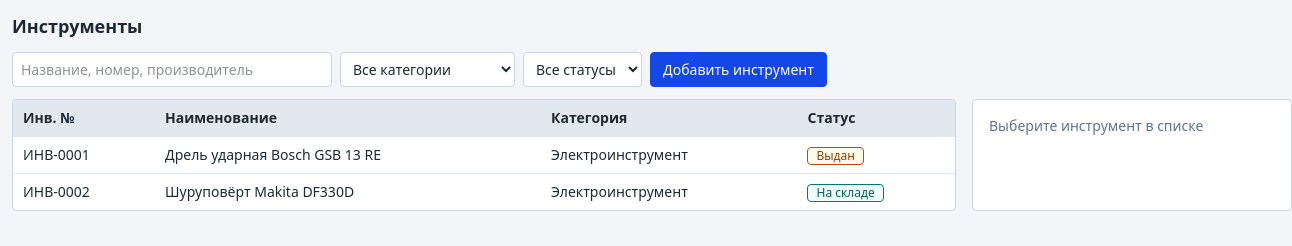
Test: ToolsPage › shows the empty state with a reset button when nothing matches the filters
The width and height of the screenshot is (1292, 246).
expect the text "Шуруповёрт Makita DF330D" is shown: met, box [155, 174, 541, 210]
Type "zzz" into the search field named "Поиск".
click(172, 70); type("zzz")  # box [12, 52, 332, 87]
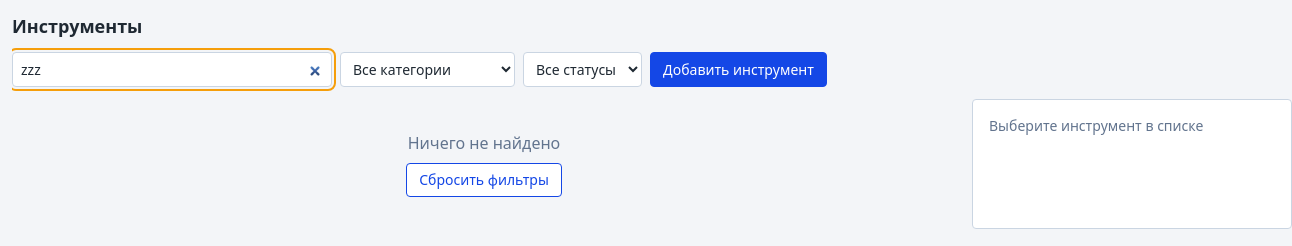
expect the text "Ничего не найдено Сбросить фильтры" is shown: met, box [406, 132, 562, 197]
Click the button "Сбросить фильтры".
click(484, 180)  # box [406, 163, 562, 197]
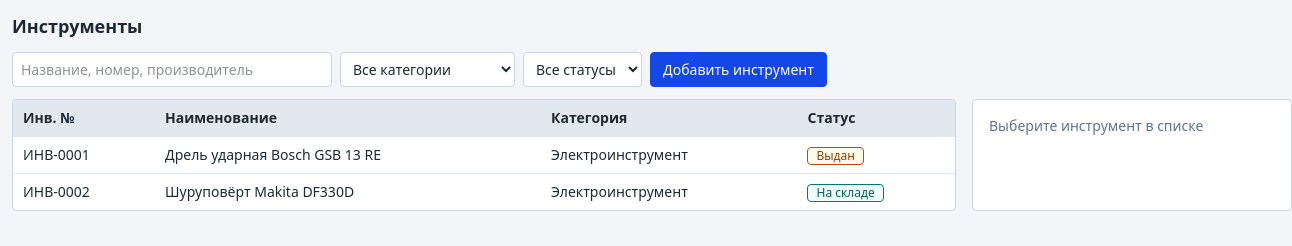
expect the text "Шуруповёрт Makita DF330D" is shown: met, box [155, 174, 541, 210]
